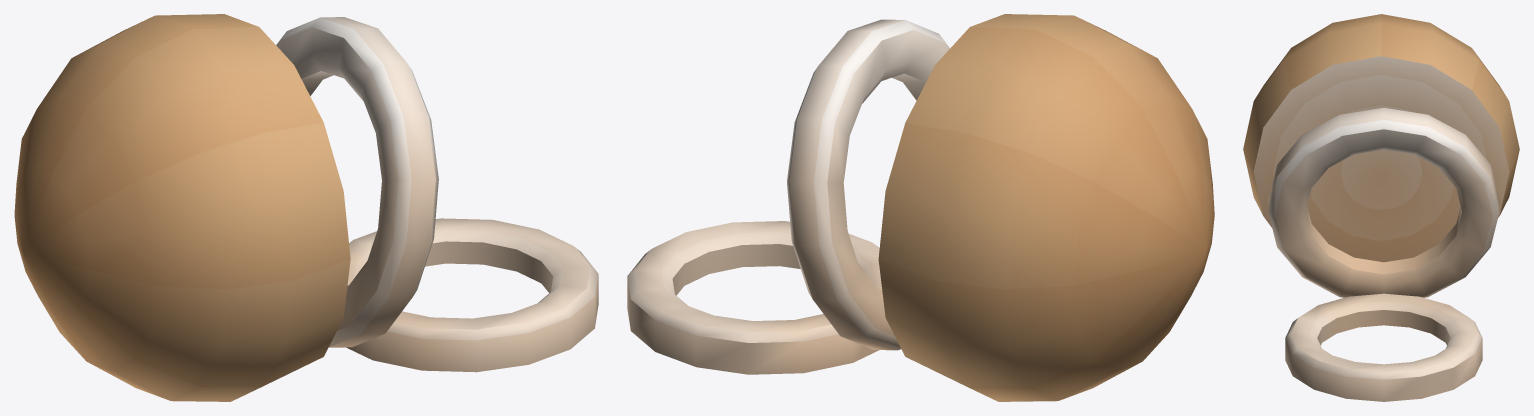
Rendered from ing_onion_chopped.glb.
3 renders of one model, left to right at view 1: azimuth 30°, elevation 25°; view 2: azimuth 150°, elevation 25°; view 3: azimuth 270°, elevation 25°, orthographic. The views are drawn at different scales.
Parts seen in each view (by area): view 1: food_ingredient_onion_chopped_Sphere.207; view 2: food_ingredient_onion_chopped_Sphere.207; view 3: food_ingredient_onion_chopped_Sphere.207.
Boxes of the visible parts, bbox=[...] form: food_ingredient_onion_chopped_Sphere.207: bbox=[14, 14, 598, 401]; food_ingredient_onion_chopped_Sphere.207: bbox=[627, 14, 1214, 401]; food_ingredient_onion_chopped_Sphere.207: bbox=[1243, 14, 1519, 401].
Bounding box in the file's own units: 1.23 × 0.75 × 0.75.
Materials: 1 (1 with a texture image).
